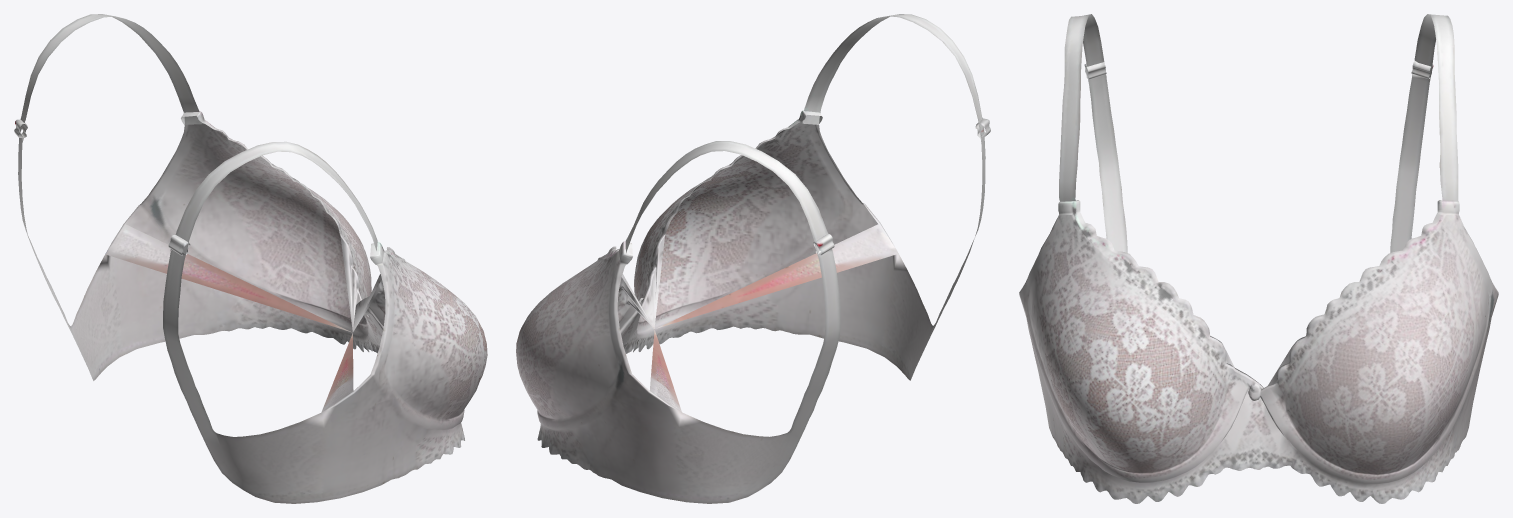
The model's file is sutia_branco_renda.glb.
3 views of the same model, side by side, from view 1: azimuth 30°, elevation 25°; view 2: azimuth 150°, elevation 25°; view 3: azimuth 270°, elevation 25° (orthographic). The views are drawn at different scales.
Parts seen in each view (by area): view 1: sutia_branco_renda; view 2: sutia_branco_renda; view 3: sutia_branco_renda.
Boxes of the visible parts, bbox=[...] form: sutia_branco_renda: bbox=[14, 14, 487, 503]; sutia_branco_renda: bbox=[516, 14, 990, 503]; sutia_branco_renda: bbox=[1019, 14, 1498, 503].
Size of the model in its own units: 0.2666 by 0.2812 by 0.3291.
Materials: 1 (1 with a texture image).
